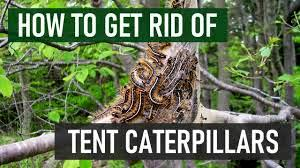Caterpillar: (122, 88, 146, 122), (148, 75, 167, 109), (174, 78, 194, 102), (146, 41, 166, 60), (139, 59, 153, 82), (130, 70, 147, 86), (148, 54, 163, 68)
